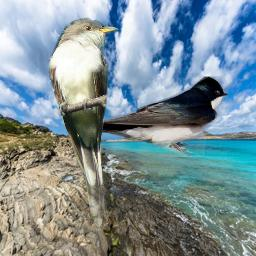Cuckoo: (49, 17, 119, 233)
Swallow: (82, 76, 228, 157)
